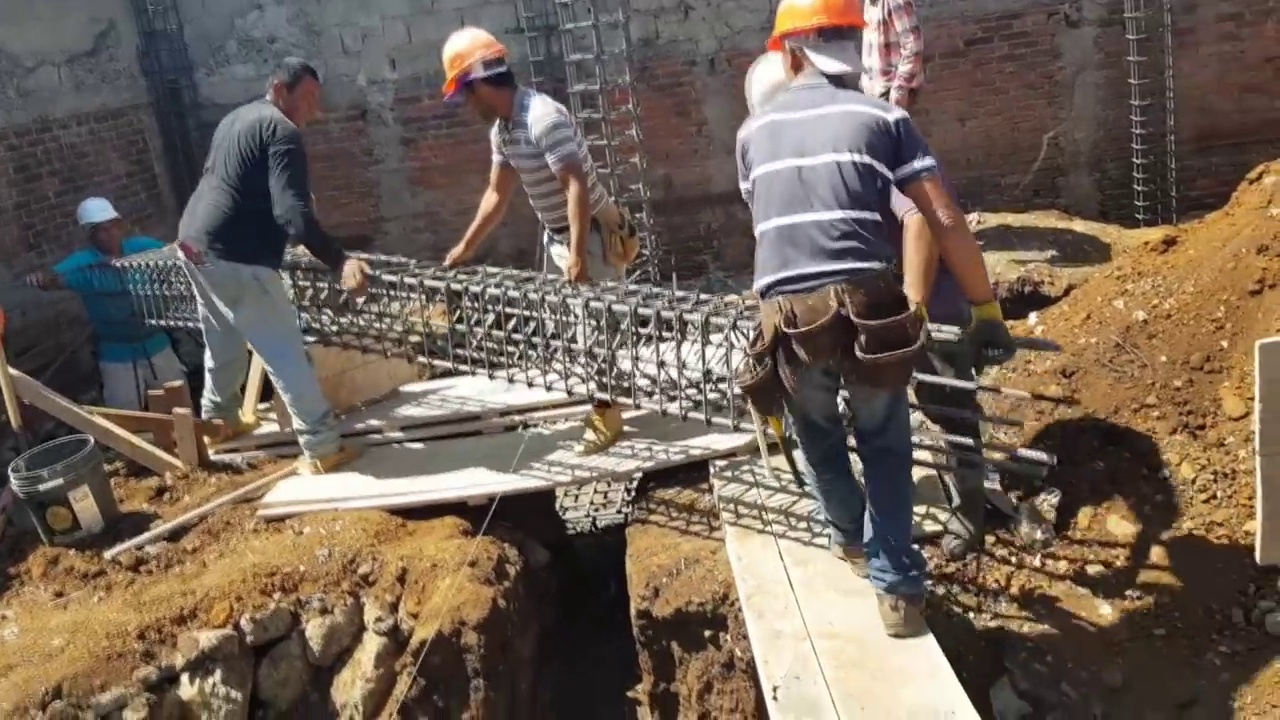helmet: (435, 26, 511, 97), (763, 0, 866, 50), (71, 199, 115, 226)
helmet-off: (259, 57, 323, 126)
helmet-on: (757, 0, 866, 109), (435, 25, 520, 126), (72, 195, 128, 255)
person: (731, 5, 1028, 639), (426, 24, 638, 457), (182, 40, 373, 486), (23, 195, 188, 414), (869, 0, 926, 120)
